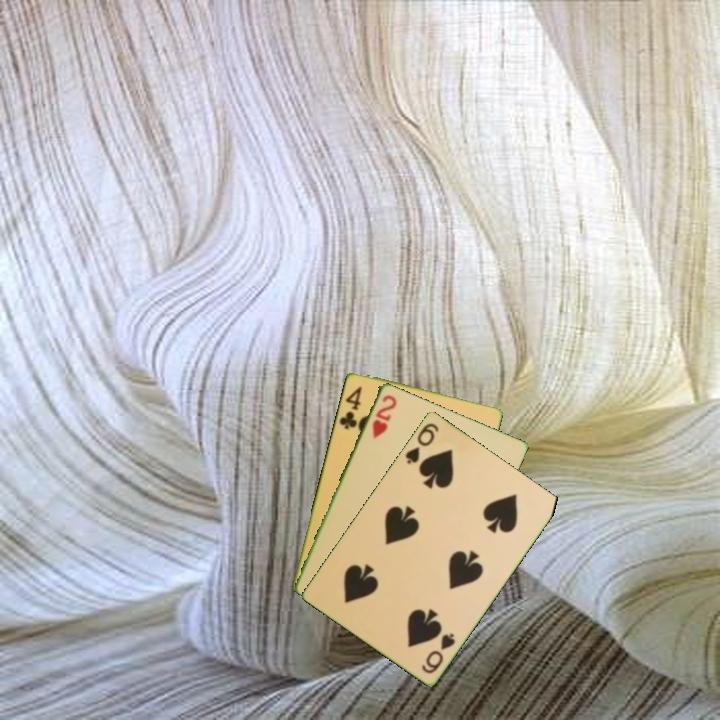2h: (368, 391, 399, 441)
4c: (335, 382, 364, 432)
6s: (401, 419, 441, 467), (418, 629, 458, 676)
